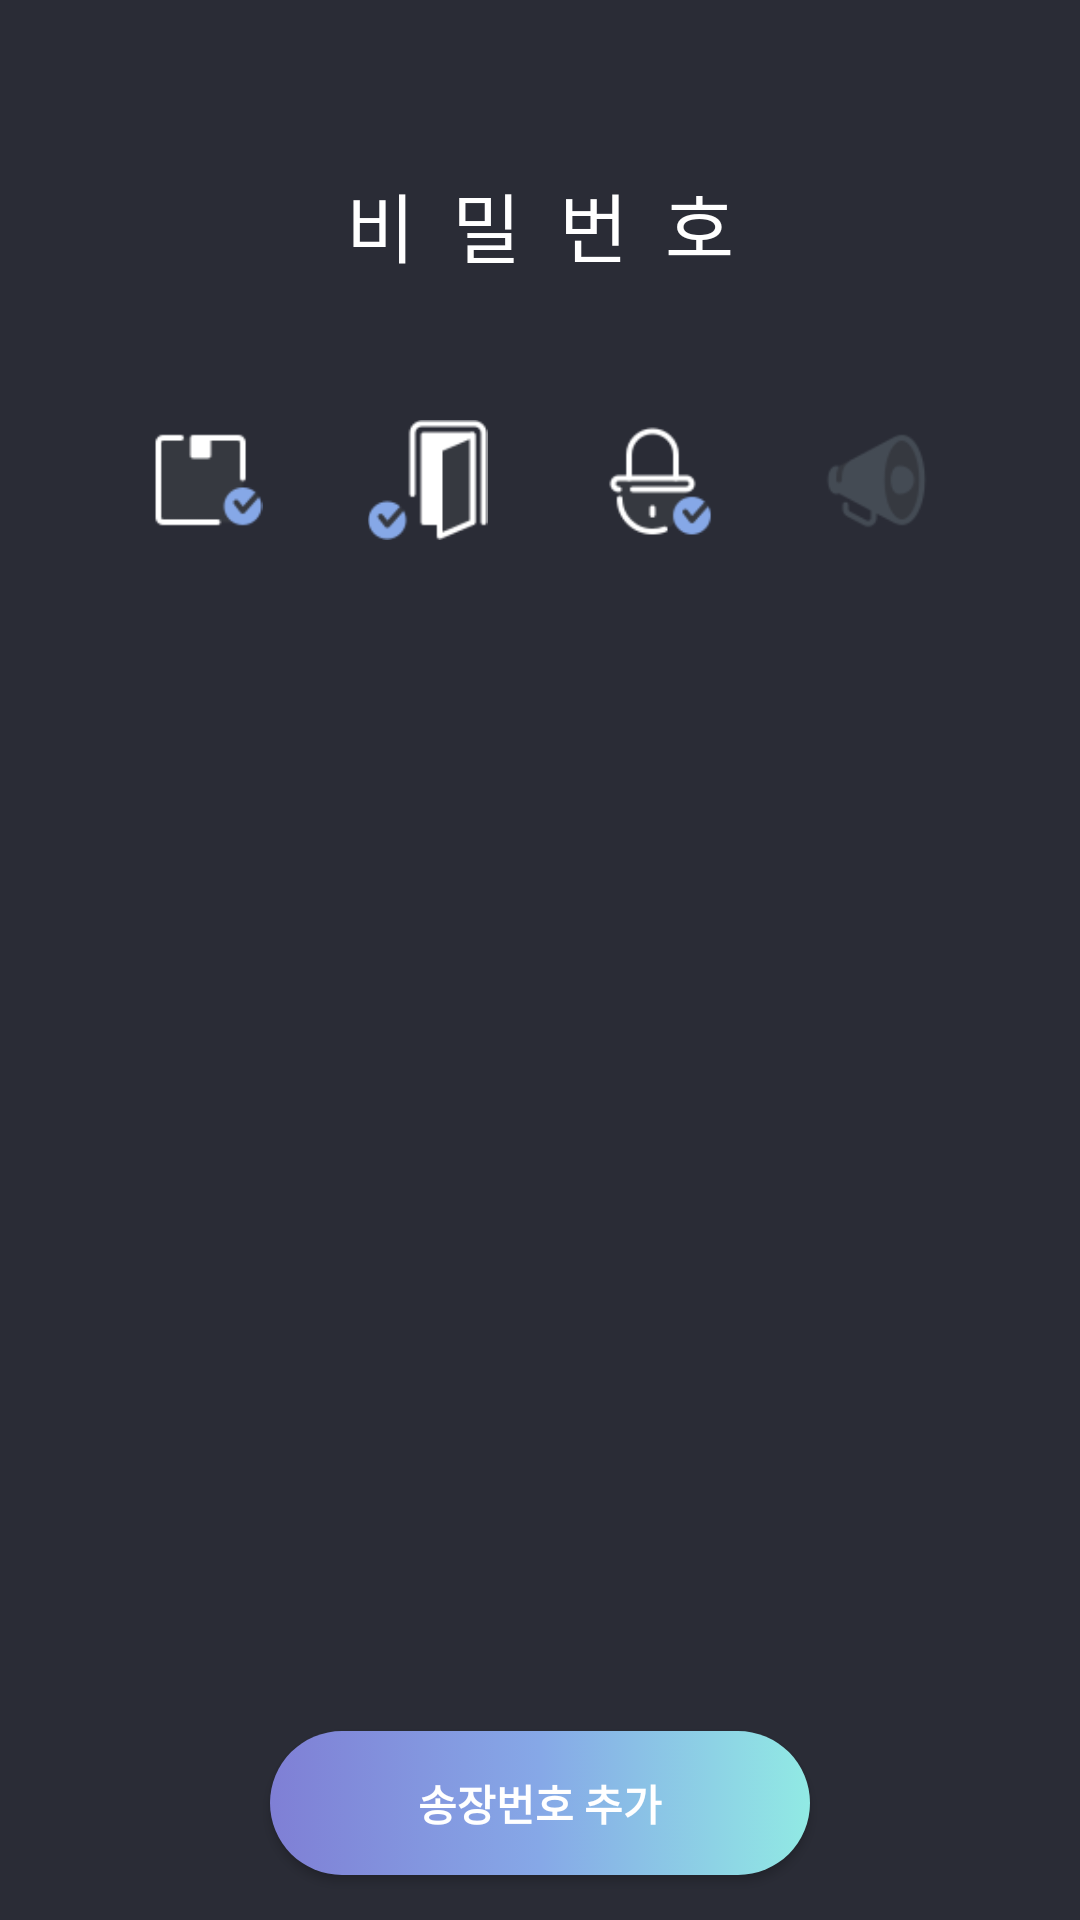

Named icons in this screenshot (1080 × 1920) and their bounding boxes, (x1, y1, x2, y2):
box on: (155, 434, 263, 526)
door on: (368, 420, 488, 540)
lock on: (609, 427, 711, 535)
warn off: (829, 436, 924, 525)
